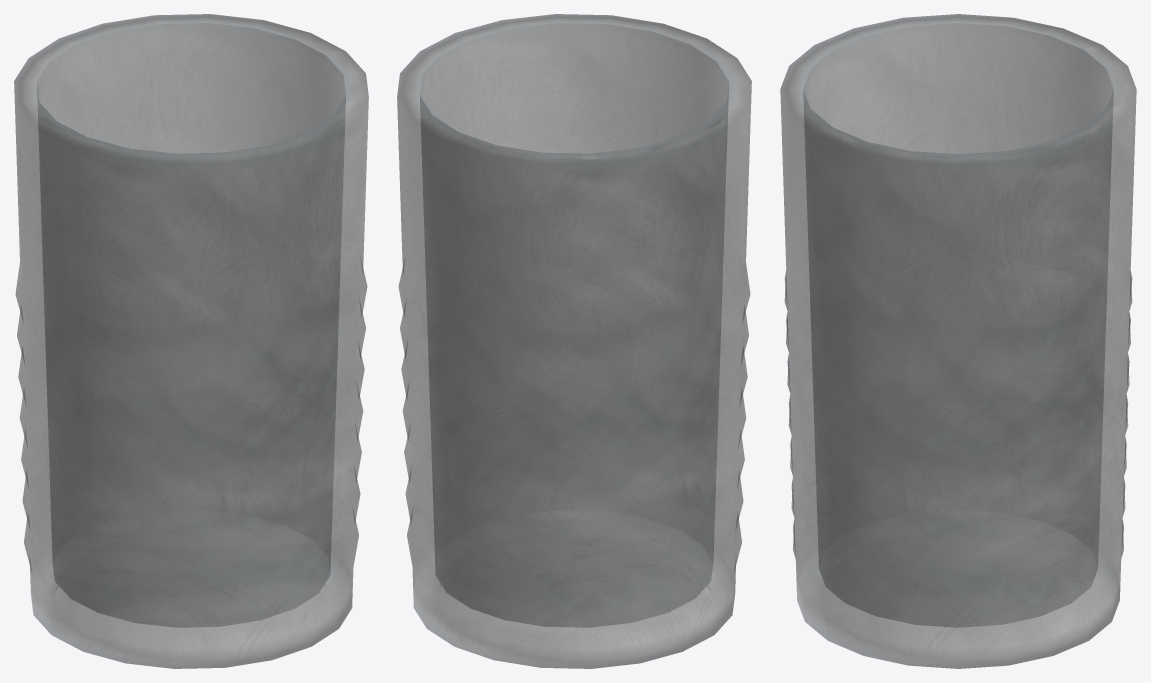
File: glass_cup.glb
3 views of the same model, side by side, from view 1: azimuth 30°, elevation 25°; view 2: azimuth 150°, elevation 25°; view 3: azimuth 270°, elevation 25° (orthographic).
Visible parts, largest first — view 1: Major_low; view 2: Major_low; view 3: Major_low.
Part boxes in pixels (<box>): Major_low: <box>14,14,368,668</box>; Major_low: <box>397,14,751,668</box>; Major_low: <box>780,14,1136,668</box>.
Size of the model in its own units: 0.3157 by 0.5006 by 0.3157.
1 material, 1 textured.
